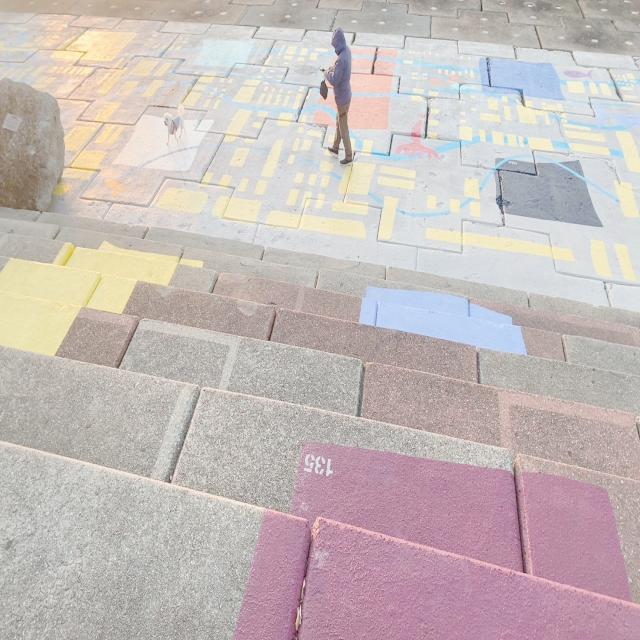Unleashed_Dog: (164, 66, 339, 146)
